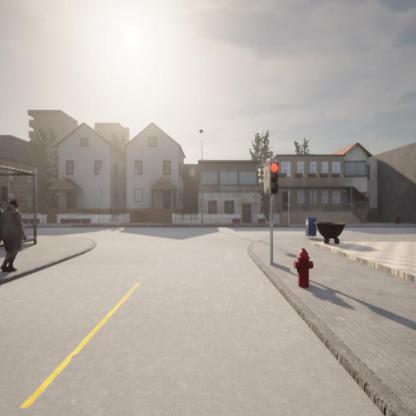person: (1, 198, 26, 272)
traffic_light_red: (269, 161, 278, 193)
